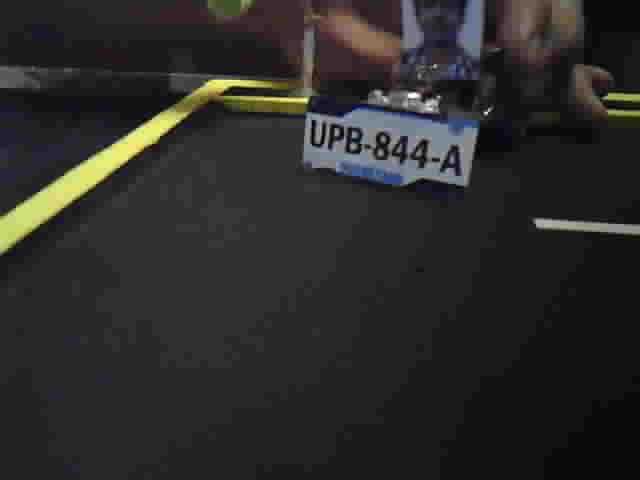PLACA: (301, 95, 482, 203)
ROSTRO: (403, 1, 480, 80)
